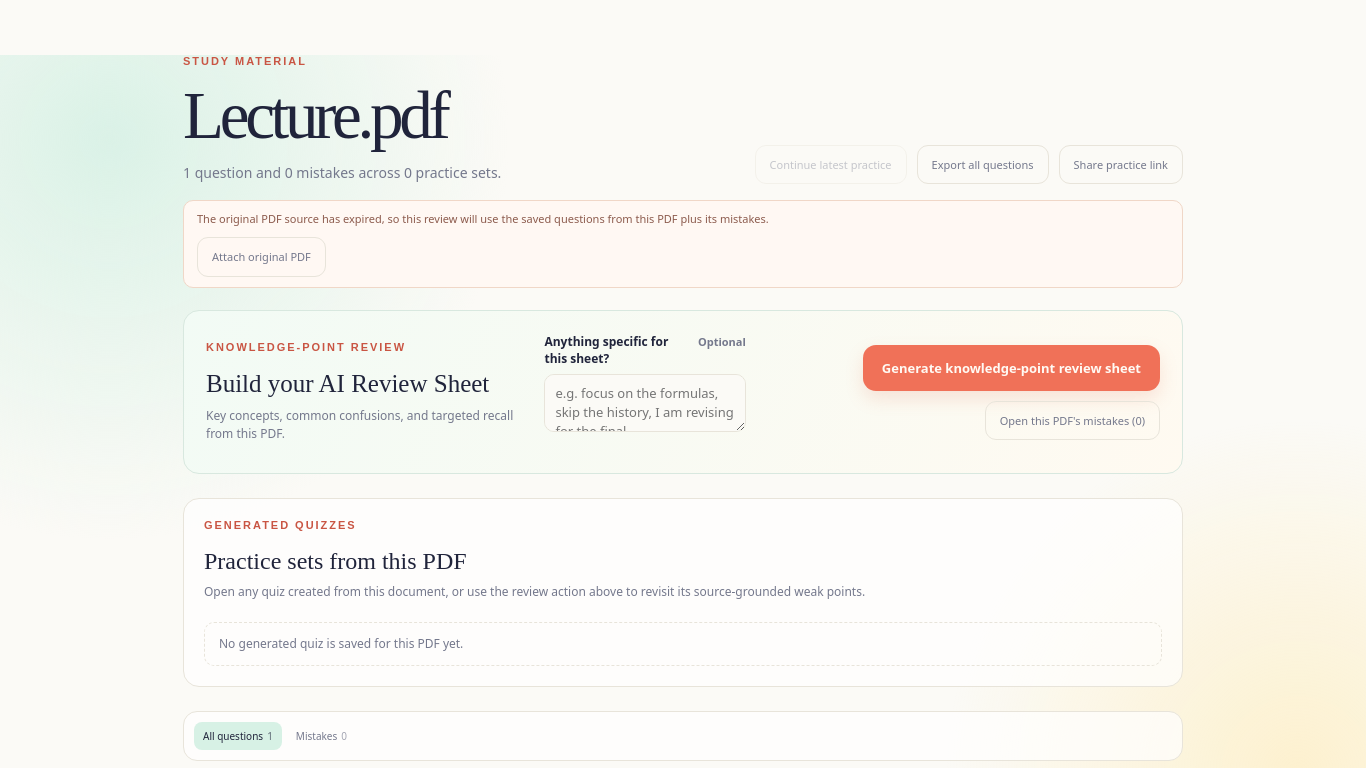
Test case: MaterialDetailView › practice share link › asks an anonymous visitor to sign in rather than failing in Supabase
Click the button with aria-label "Share a practice link for Lecture.pdf" at (1121, 165), box x1=1059 y1=145 x2=1183 y2=184
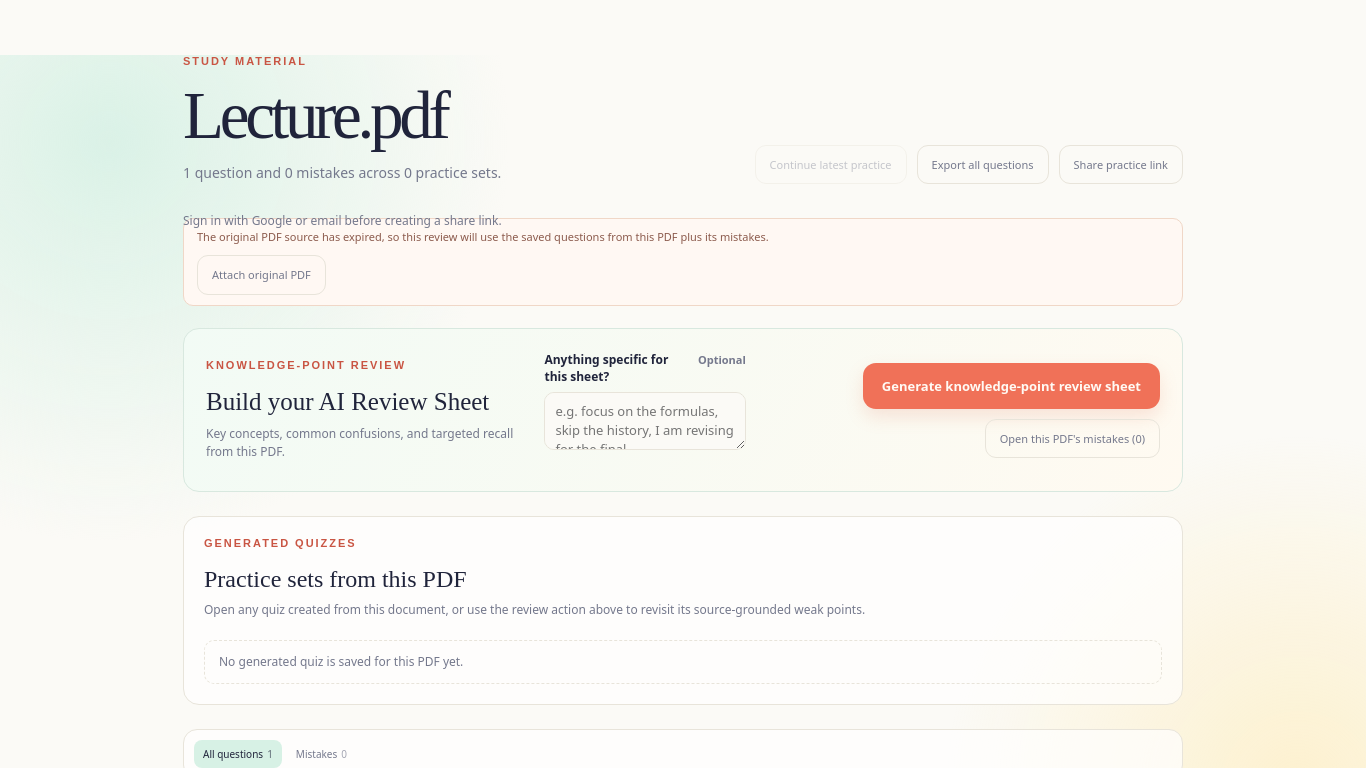
Check: the text "Sign in with Google or email before creating a share link." is shown, box x1=183 y1=212 x2=502 y2=229
